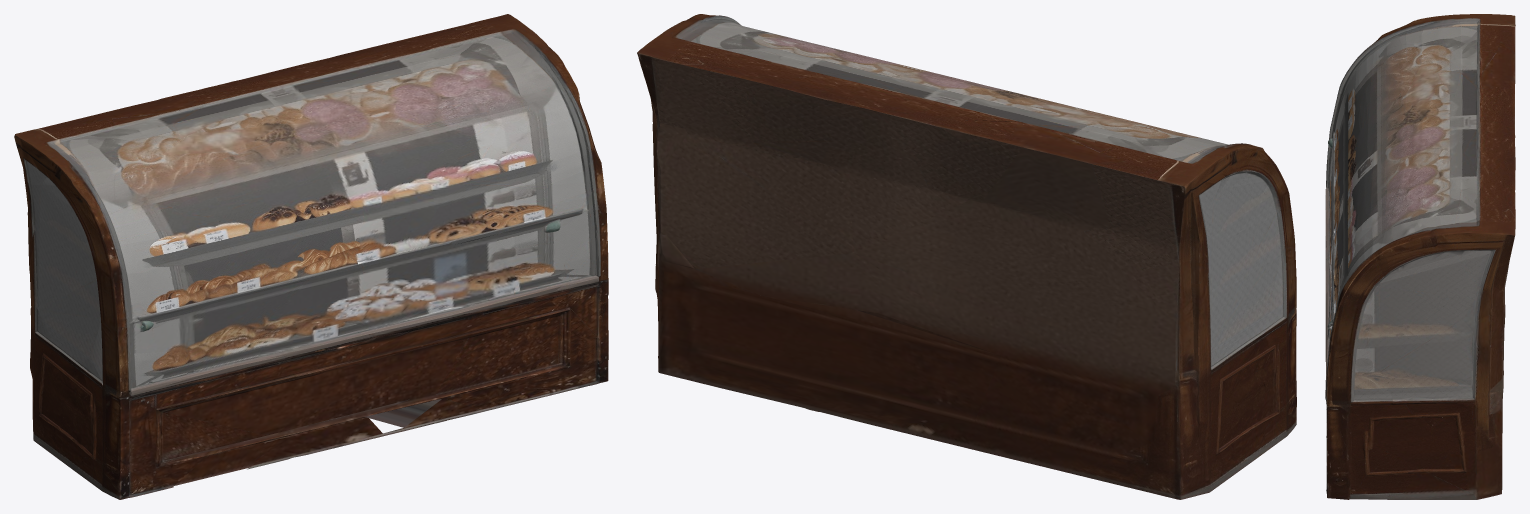
The model's file is bakery-counter.glb.
The picture shows the model from 3 angles, left to right: view 1: azimuth 30°, elevation 25°; view 2: azimuth 150°, elevation 25°; view 3: azimuth 270°, elevation 25°; orthographic projection. The views are drawn at different scales.
Parts seen in each view (by area): view 1: Mesh_0; view 2: Mesh_0; view 3: Mesh_0.
Boxes of the visible parts, bbox=[...] form: Mesh_0: bbox=[14, 14, 608, 499]; Mesh_0: bbox=[637, 14, 1296, 499]; Mesh_0: bbox=[1325, 14, 1515, 499].
Size of the model in its own units: 2.45 by 1.38 by 0.89.
1 material, 1 textured.
